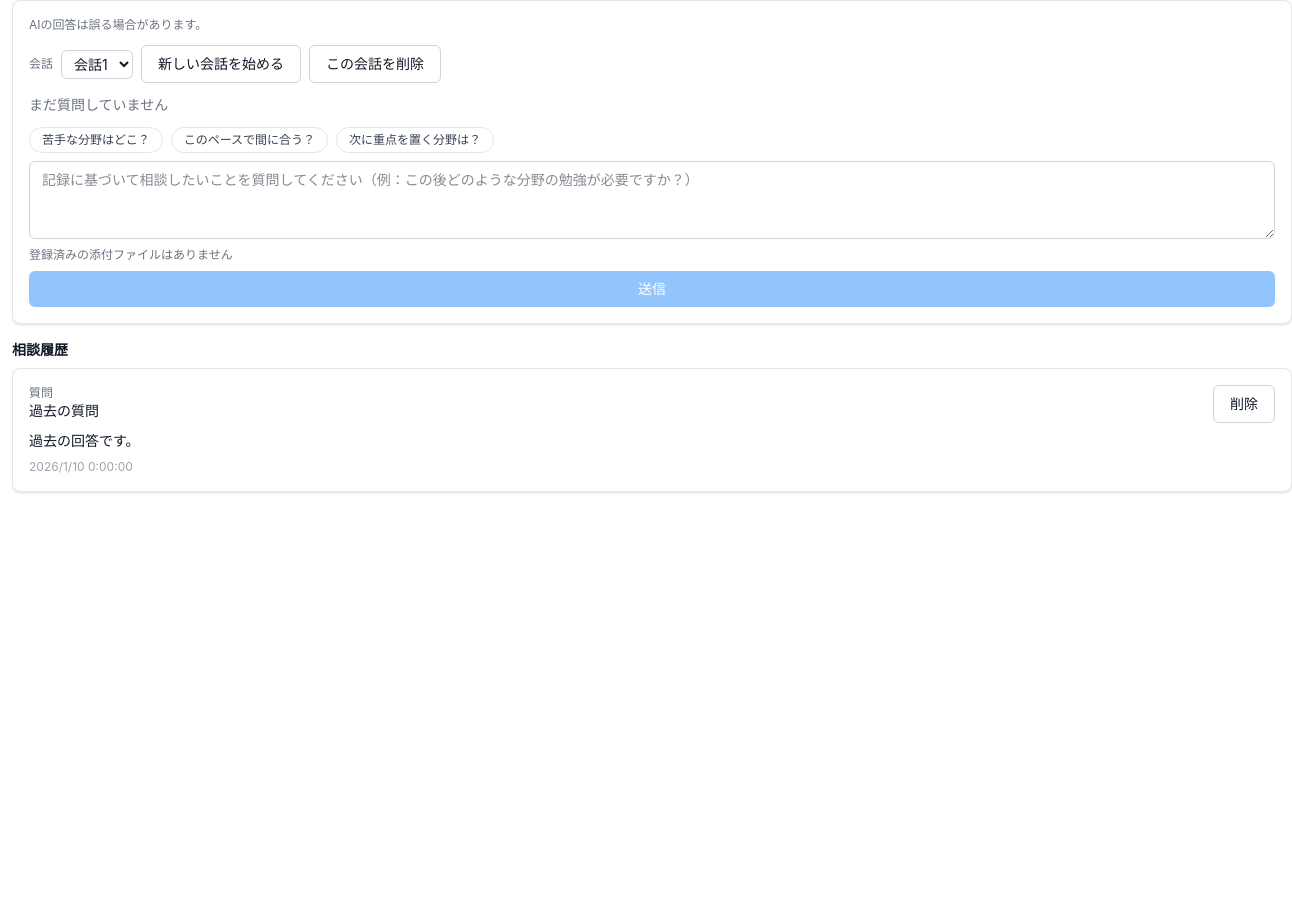
Scenario: GoalConsultationTab › 相談履歴の削除に失敗した場合はエラーをトースト表示する
Expected: the text "過去の質問" is shown, x1=29 y1=401 x2=99 y2=421
Step 1. Click the button "削除" → coordinates (1244, 404), box x1=1213 y1=385 x2=1275 y2=423
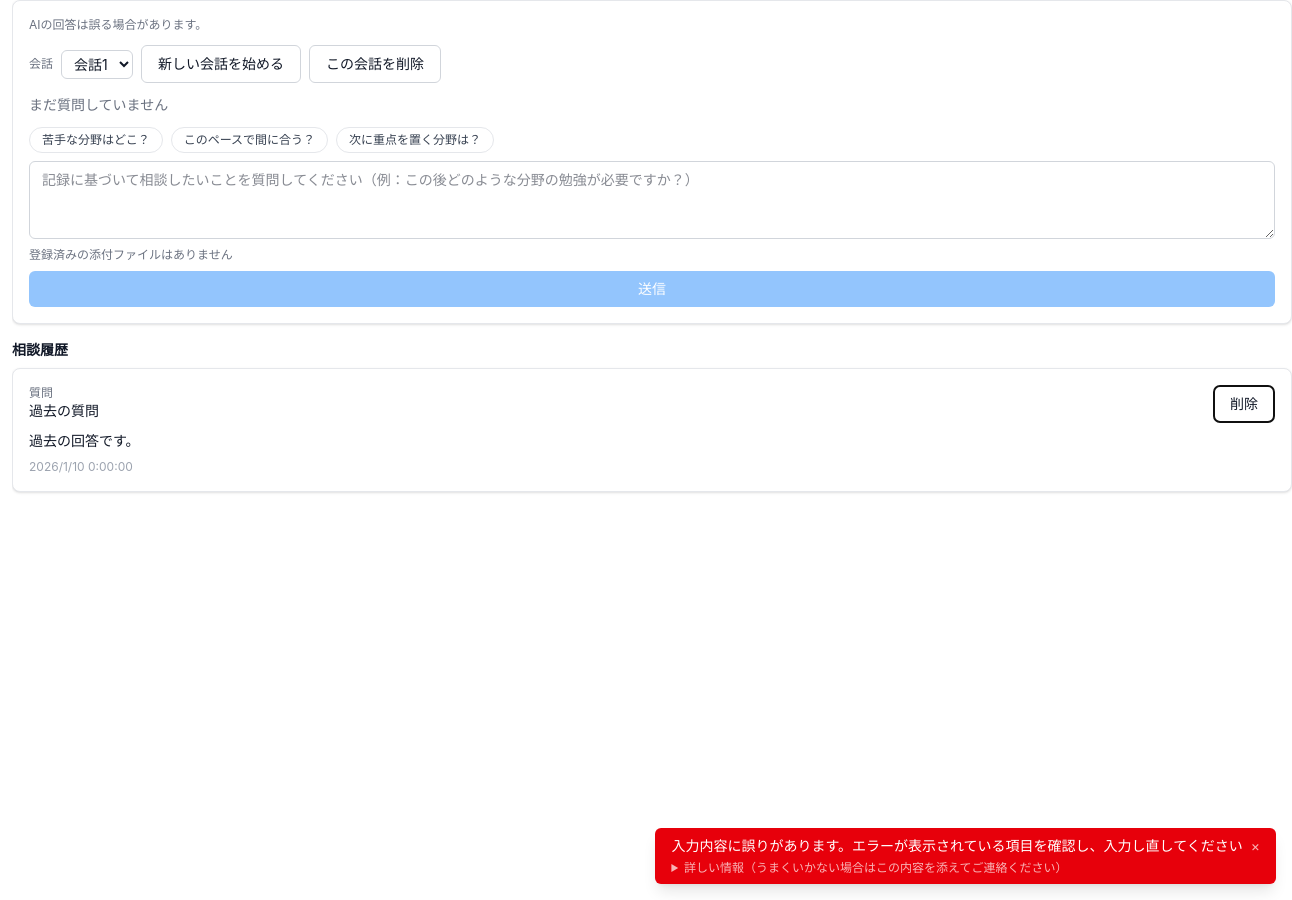
Expected: the text "入力内容に誤りがあります。エラーが表示されている項目を確認し、入力し直してください" is shown, x1=671 y1=836 x2=1243 y2=856
